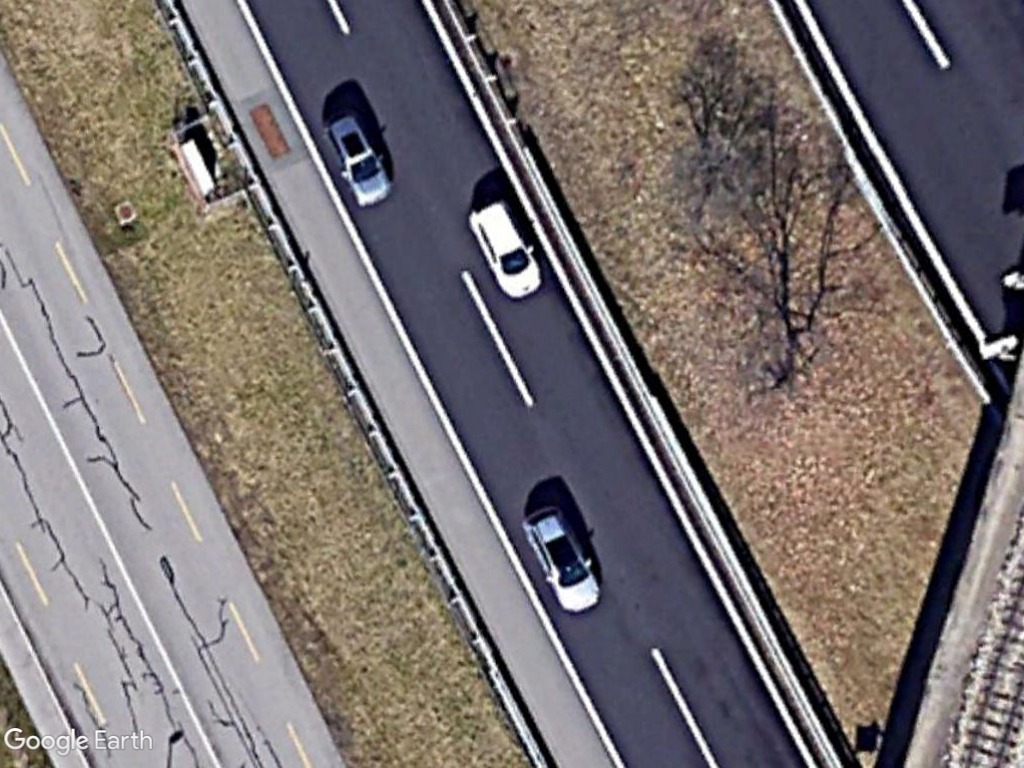car: (518, 505, 606, 616), (467, 201, 542, 305), (318, 112, 397, 208)
